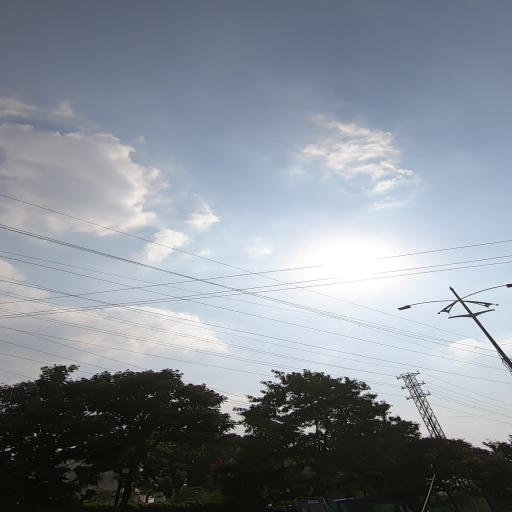Street_light: (394, 300, 470, 312)
